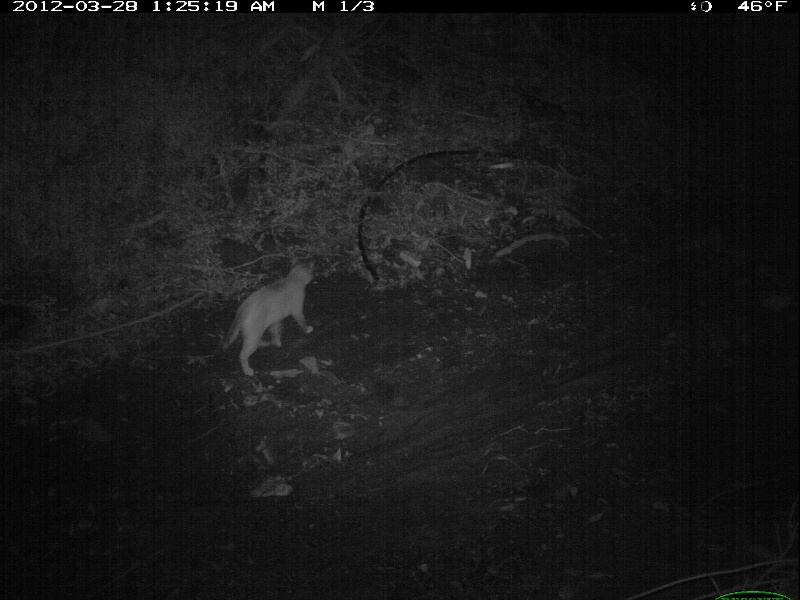cat: (223, 255, 319, 379)
